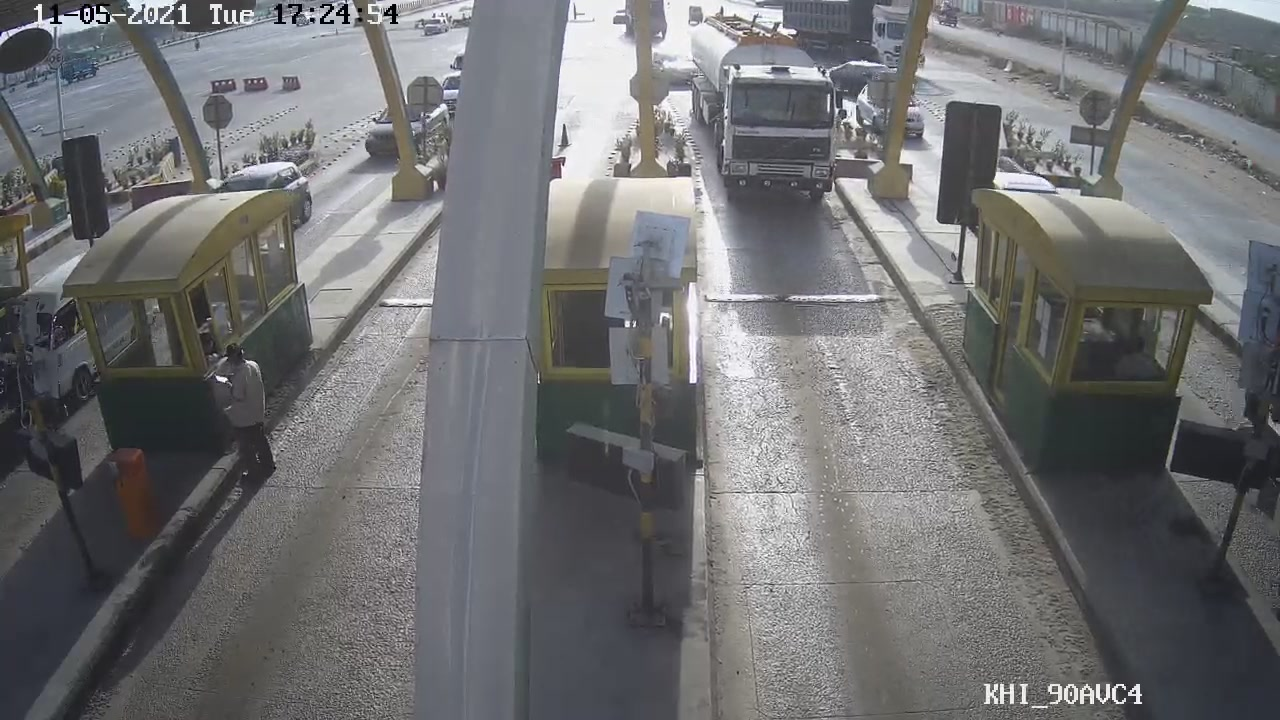F6: (674, 31, 860, 213)
